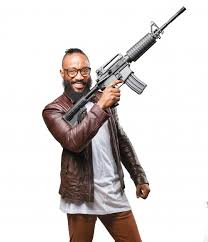rifle: (61, 6, 188, 124)
